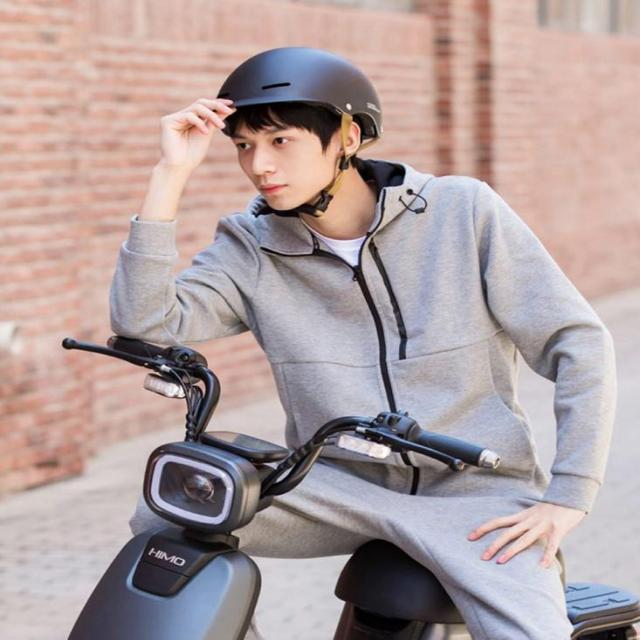Helmet: (215, 45, 385, 214)
